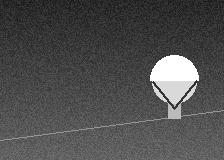helmet: (150, 55, 198, 108)
